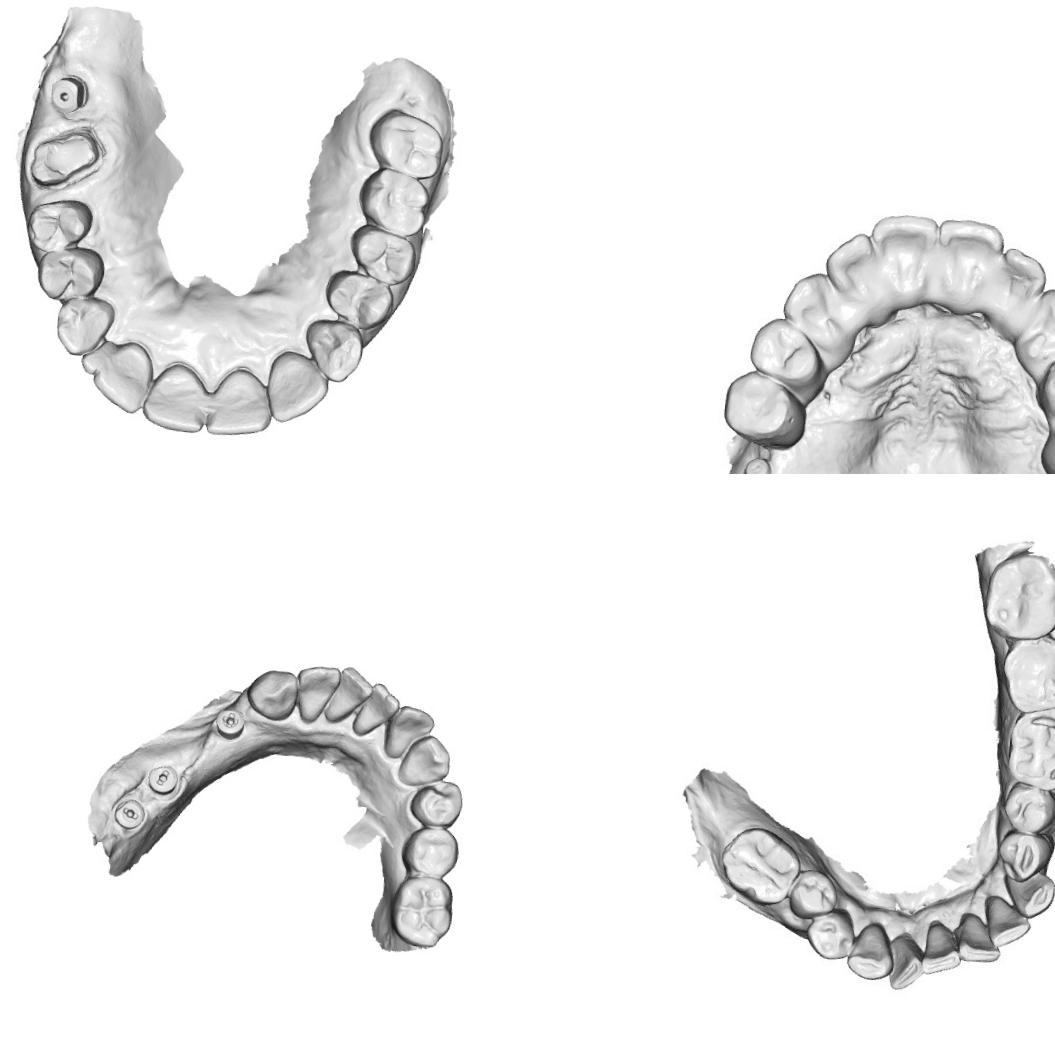canine: (783, 269, 856, 355), (298, 314, 371, 387), (49, 290, 120, 360), (1014, 282, 1055, 381), (394, 730, 452, 789), (242, 666, 300, 723), (1006, 863, 1055, 920), (846, 921, 895, 978)
crown: (24, 122, 104, 192)
implant: (43, 68, 92, 118)
implant_minus: (110, 794, 147, 832), (144, 761, 180, 796)
implant_plus: (212, 706, 246, 742)
incisor: (934, 219, 1016, 324), (870, 210, 941, 297), (88, 336, 160, 418), (140, 355, 212, 436), (204, 362, 276, 442), (264, 346, 332, 430), (994, 250, 1044, 334), (826, 232, 885, 302), (323, 662, 374, 726), (382, 702, 436, 762), (350, 678, 402, 740), (292, 662, 340, 726), (950, 913, 1002, 967), (984, 896, 1032, 950), (883, 938, 928, 992), (920, 922, 960, 978)
molar: (983, 544, 1055, 643), (360, 106, 452, 183), (352, 161, 438, 243), (720, 827, 802, 908), (386, 872, 456, 950), (1001, 707, 1055, 793), (996, 637, 1055, 710)
premolar: (722, 371, 798, 442), (744, 319, 820, 388), (28, 240, 109, 304), (322, 265, 396, 333), (344, 222, 420, 288), (21, 192, 95, 258), (398, 824, 461, 878), (406, 776, 464, 830), (993, 830, 1050, 882), (997, 782, 1054, 832), (807, 907, 856, 961), (788, 868, 836, 920)
